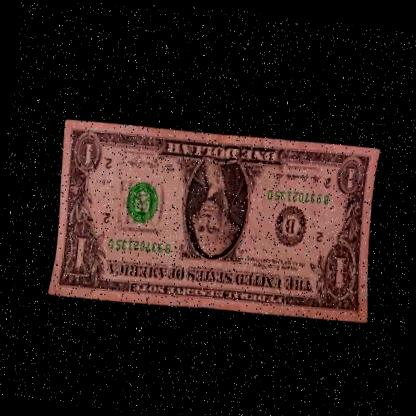one-front: (40, 99, 386, 343)
